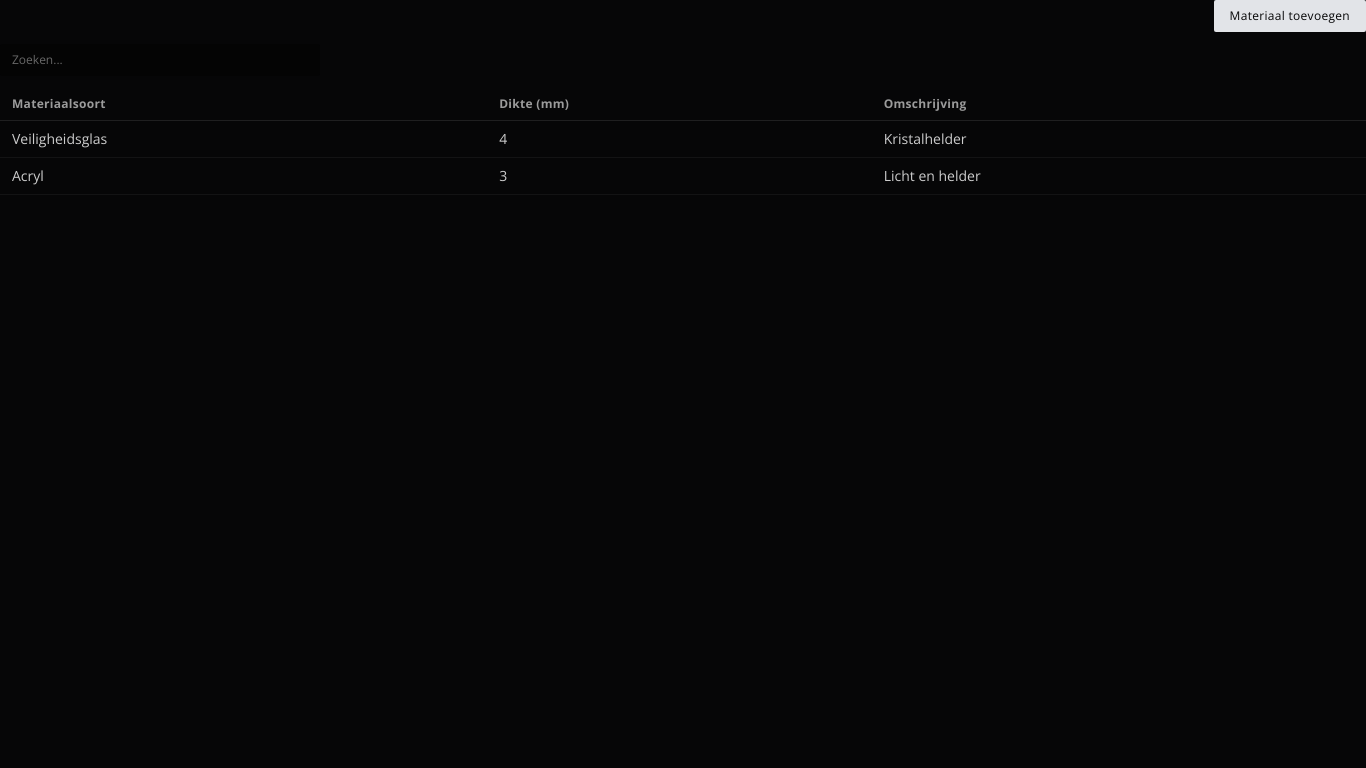
Scenario: MaterialenSection › shows an action error and keeps the modal open when deleting fails
Click the row with test id "data-table-row-mat-2" at coordinates (683, 176), box [0,158,1365,194]
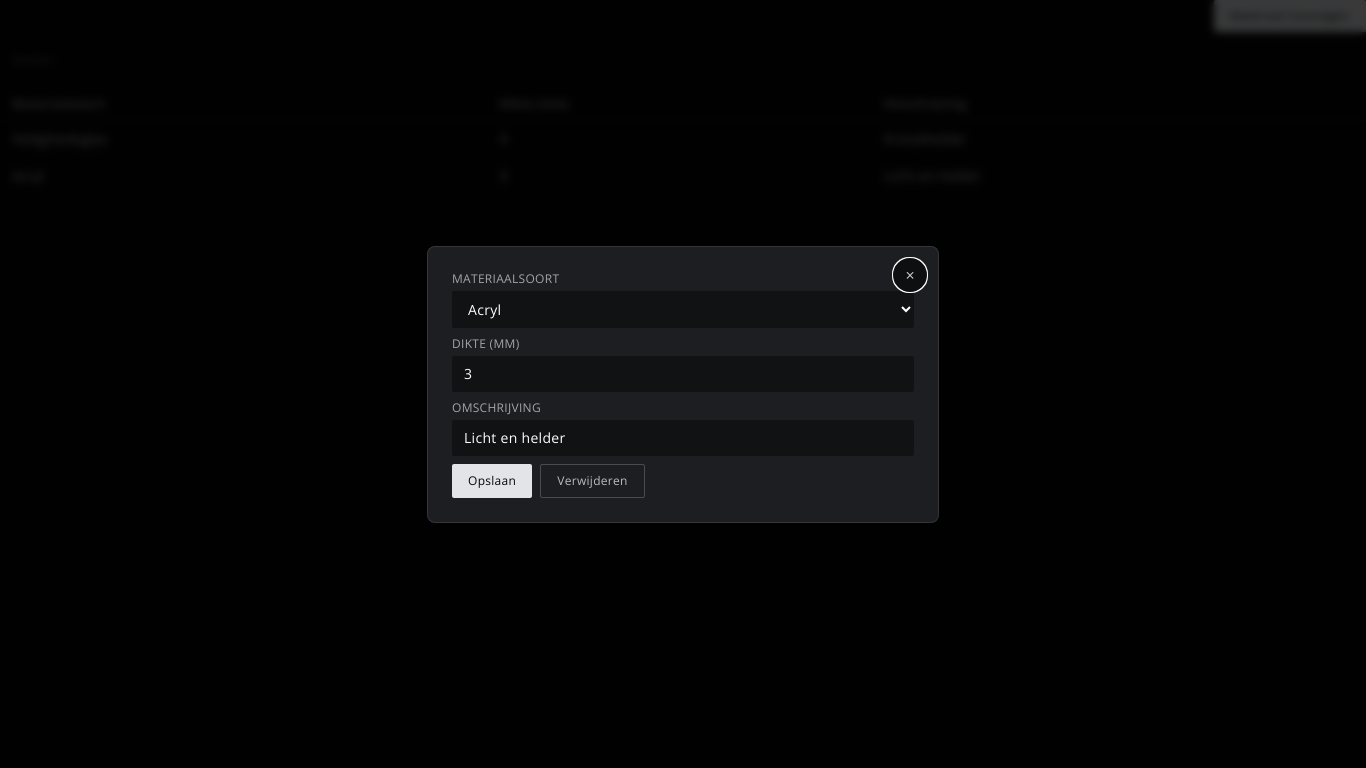
Click the button with test id "materiaal-modal-verwijderen" at coordinates (592, 480), box [540,464,645,498]
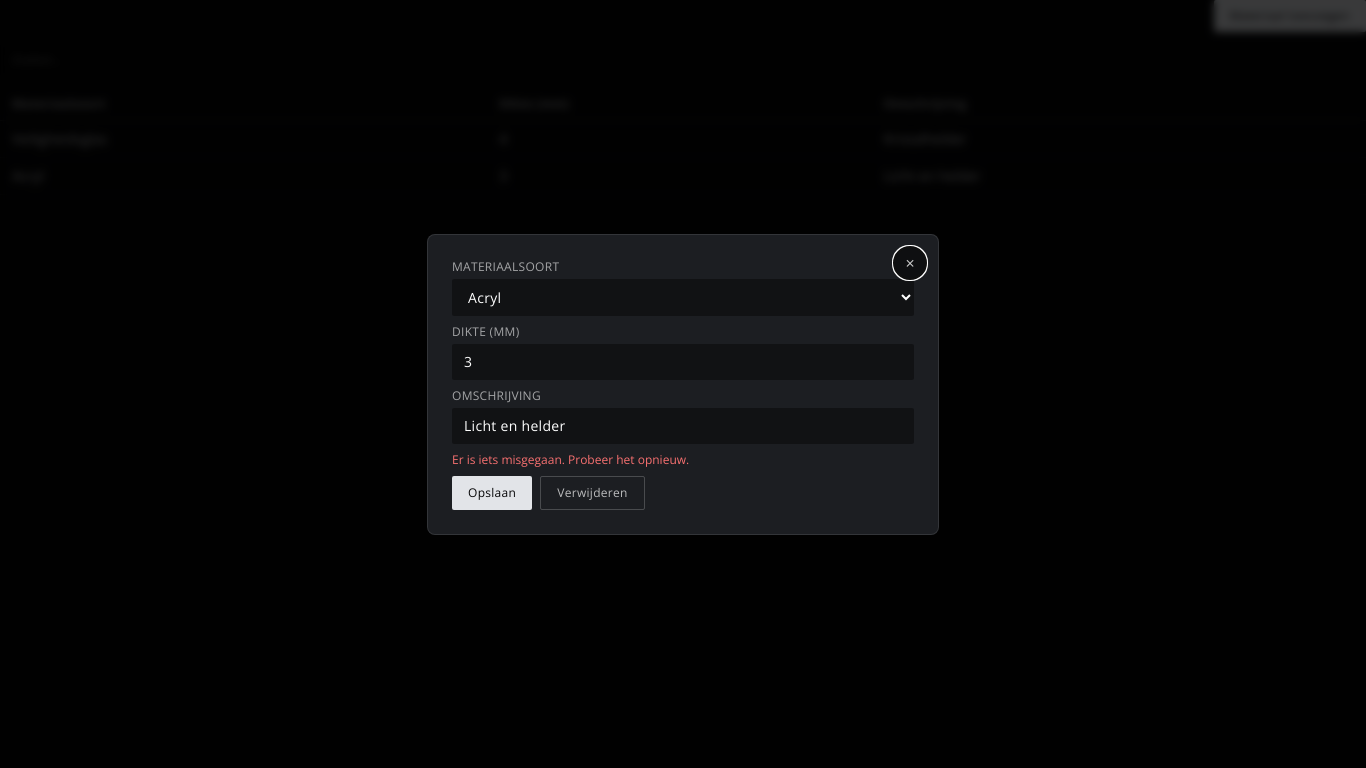
Expected: the element with test id "materiaal-modal" is shown, [452,258,914,510]
Expected: the text with test id "materiaal-modal-error" reads "Er is iets misgegaan. Probeer het opnieuw.", [452,450,689,468]
